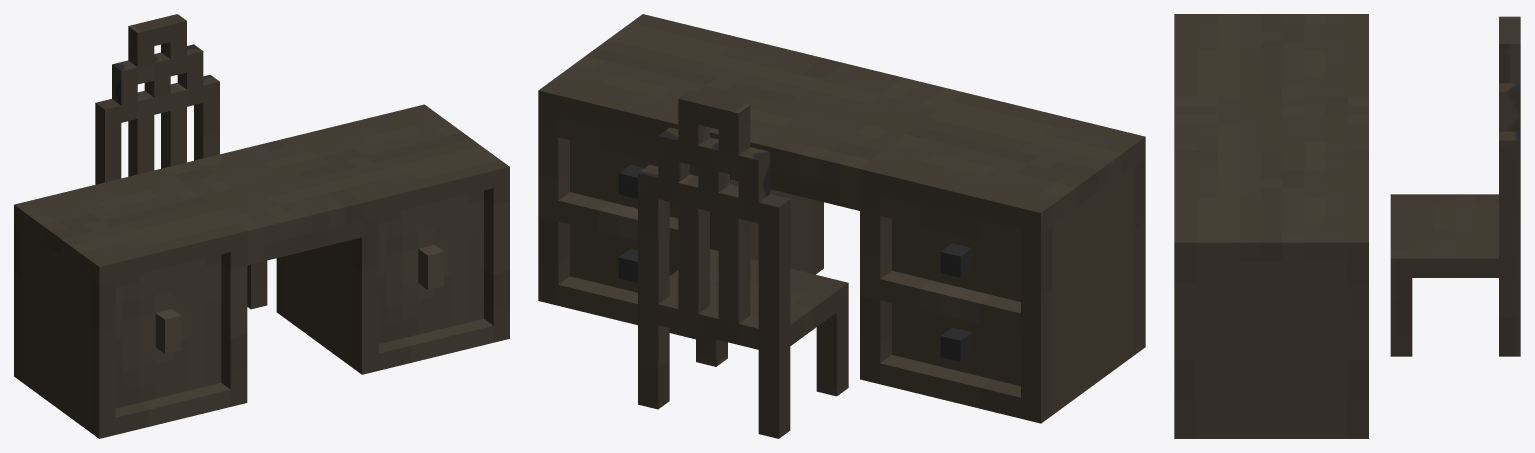
File: TeacherDeskChair.fbx
The picture shows the model from 3 angles, left to right: view 1: azimuth 30°, elevation 25°; view 2: azimuth 150°, elevation 25°; view 3: azimuth 270°, elevation 25°; orthographic projection. The views are drawn at different scales.
Visible parts, largest first — view 1: DeskTeach, ChairTeach; view 2: DeskTeach, ChairTeach; view 3: DeskTeach, ChairTeach.
Boxes of the visible parts, bbox=[...] form: DeskTeach: bbox=[14, 104, 509, 438]; ChairTeach: bbox=[95, 14, 267, 309]; DeskTeach: bbox=[538, 14, 1145, 423]; ChairTeach: bbox=[638, 90, 848, 438]; DeskTeach: bbox=[1174, 14, 1368, 438]; ChairTeach: bbox=[1390, 16, 1520, 356].
Size of the model in its own units: 250 by 150 by 160.
1 material, 1 textured.
